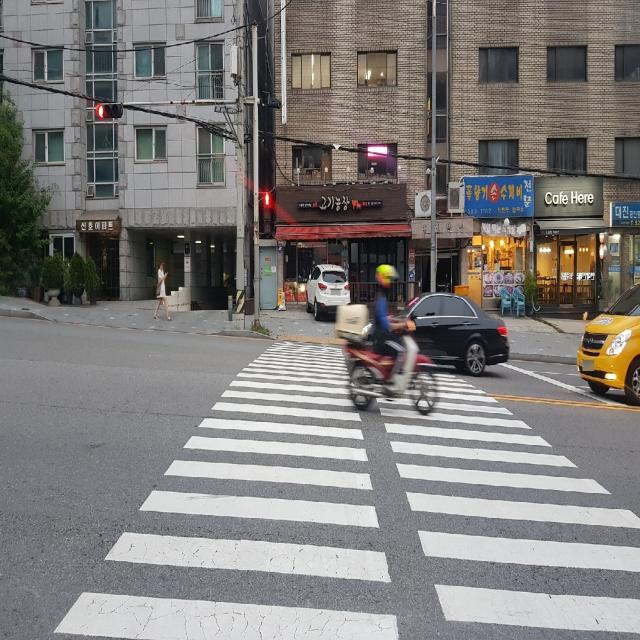빨간불: (263, 192, 272, 233)
횡단보도: (52, 339, 640, 640)
